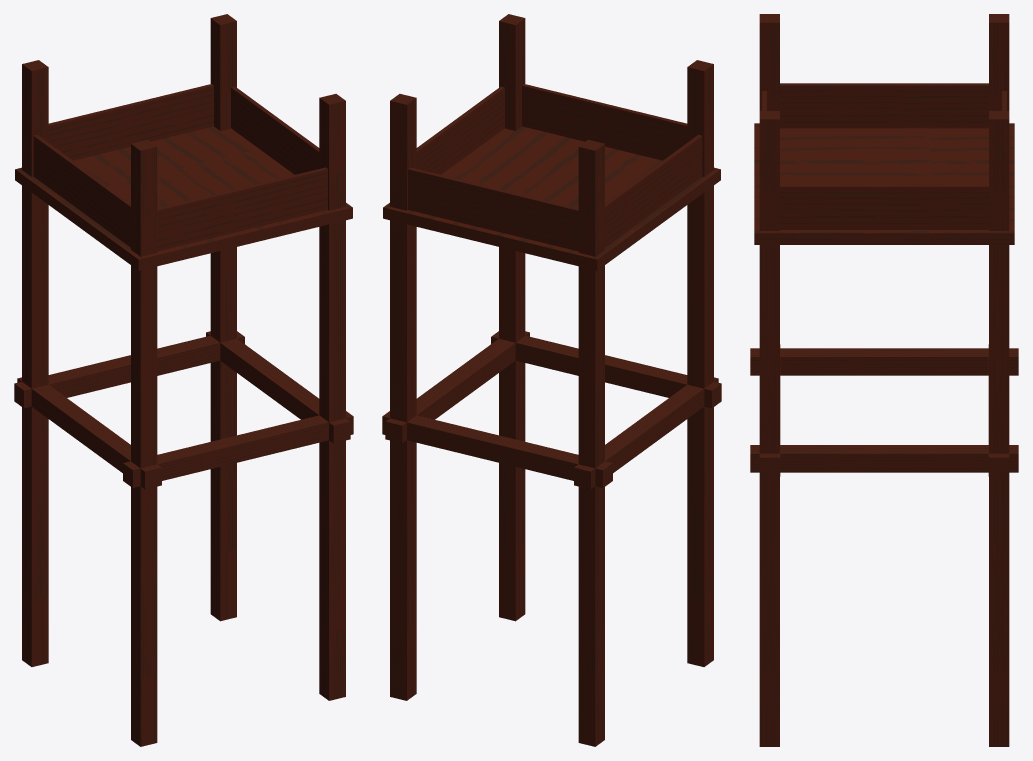
The model's file is Tower.fbx.
3 views of the same model, side by side, from view 1: azimuth 30°, elevation 25°; view 2: azimuth 150°, elevation 25°; view 3: azimuth 270°, elevation 25° (orthographic). The views are drawn at different scales.
Parts seen in each view (by area): view 1: Cube.010, Cube.014, Cube.009, Cube.012, Cube.013, Cube.011; view 2: Cube.010, Cube.014, Cube.009, Cube.012, Cube.013, Cube.011; view 3: Cube.010, Cube.013, Cube.009, Cube.011, Cube.012.
Part boxes in pixels (x1,y1,x2,y2): Cube.010: (22,14,345,746); Cube.014: (48,84,327,251); Cube.009: (15,126,352,270); Cube.012: (14,331,353,487); Cube.013: (33,86,319,247); Cube.011: (17,331,350,489); Cube.010: (390,14,713,746); Cube.014: (408,84,687,251); Cube.009: (383,126,720,270); Cube.012: (382,331,721,487); Cube.013: (416,86,702,247); Cube.011: (385,331,718,489); Cube.010: (759,14,1009,746); Cube.013: (780,83,988,229); Cube.009: (754,123,1014,244); Cube.011: (750,348,1018,472); Cube.012: (759,344,1009,476).
Bounding box in the file's own units: 2.32 × 5.98 × 2.32.
